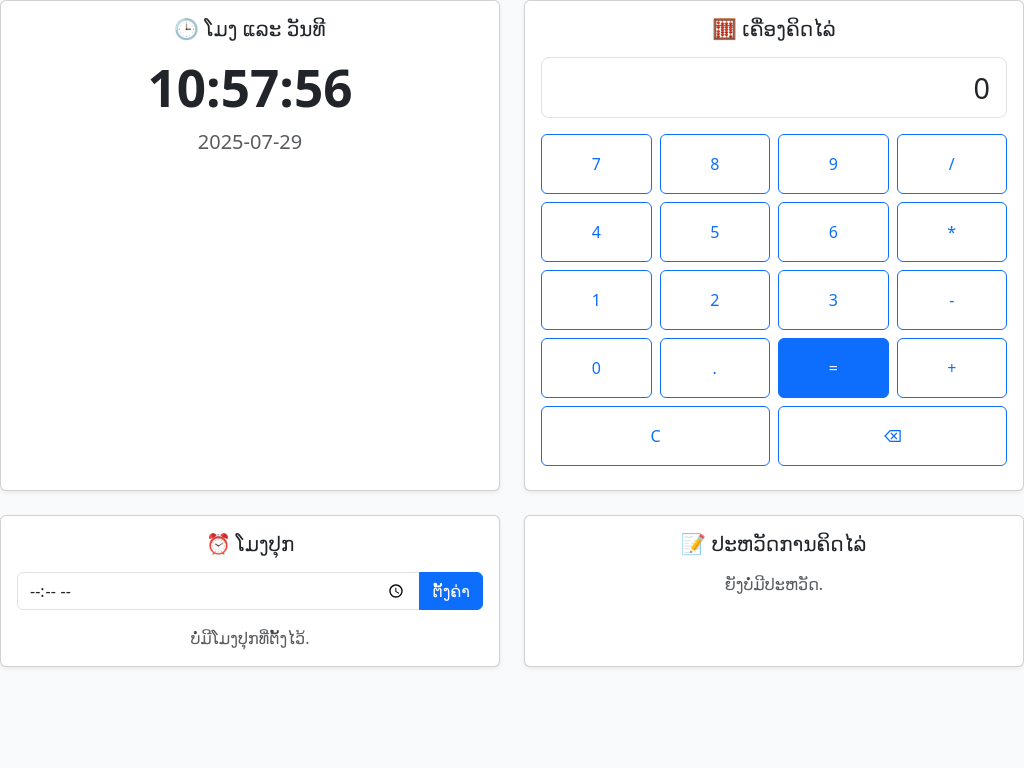
it: CalculatorClockAlarm › performs a calculation
The width and height of the screenshot is (1024, 768).
Click the button with test id "btn-1". click: (596, 300)
box: 541,270 -> 652,330
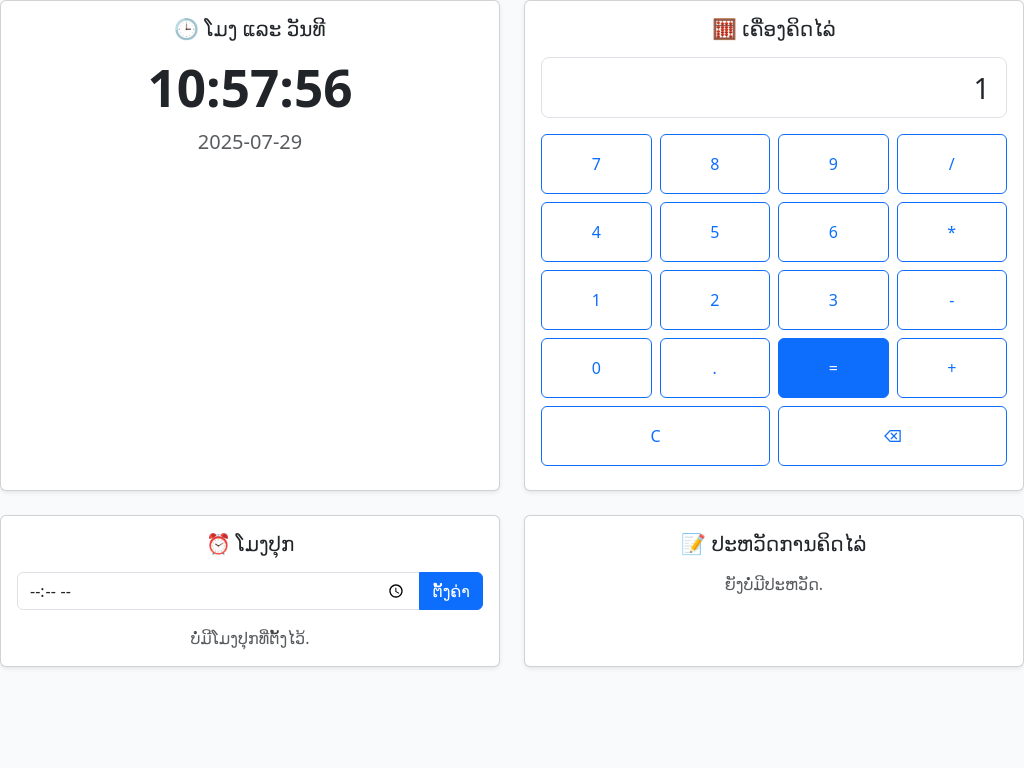
Click the button with test id "btn-+". click: (952, 368)
box: 896,338 -> 1007,398
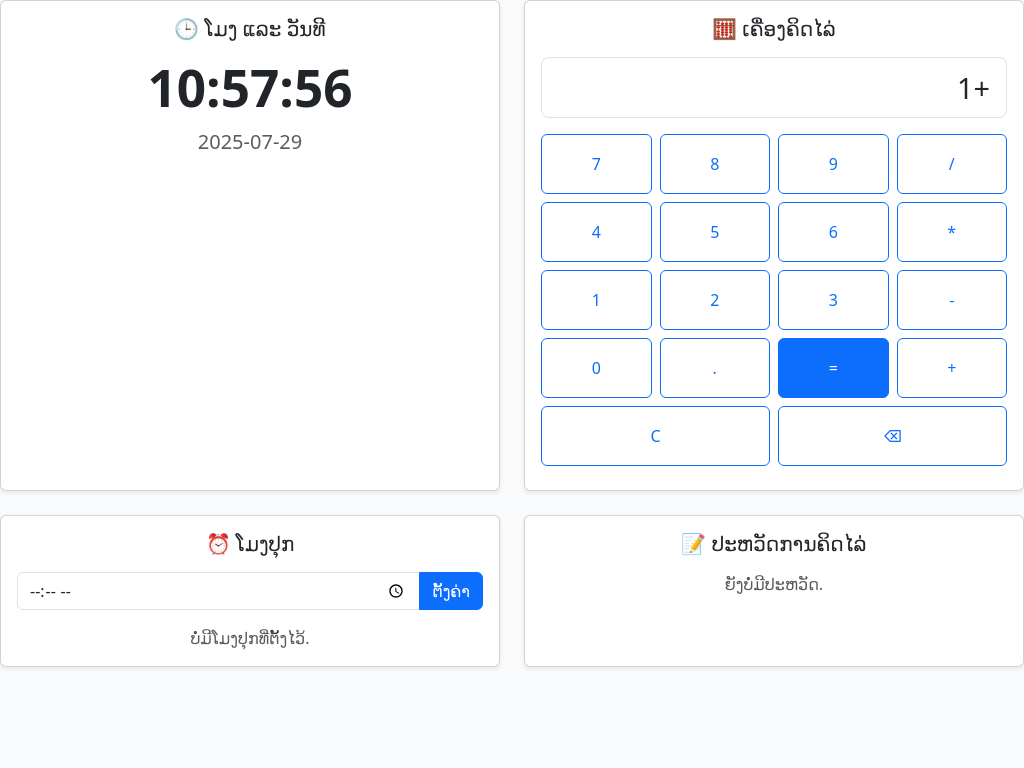
Click the button with test id "btn-2". click: (715, 300)
box: 660,270 -> 770,330
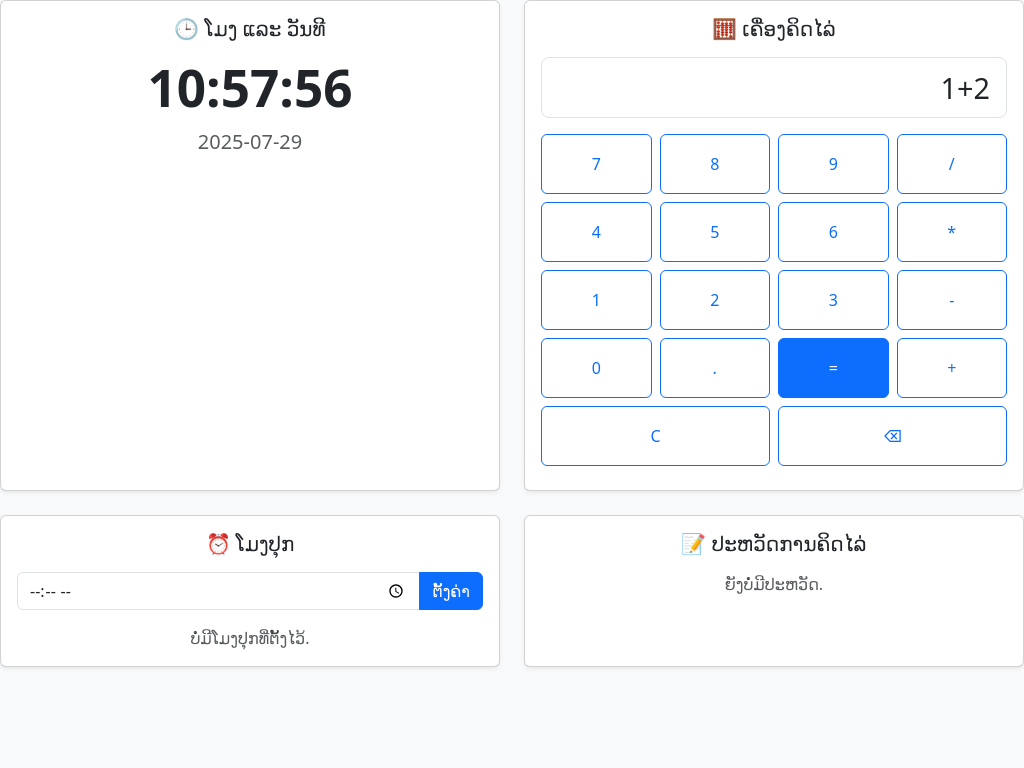
Click the button with test id "btn-=". click: (833, 368)
box: 778,338 -> 888,398
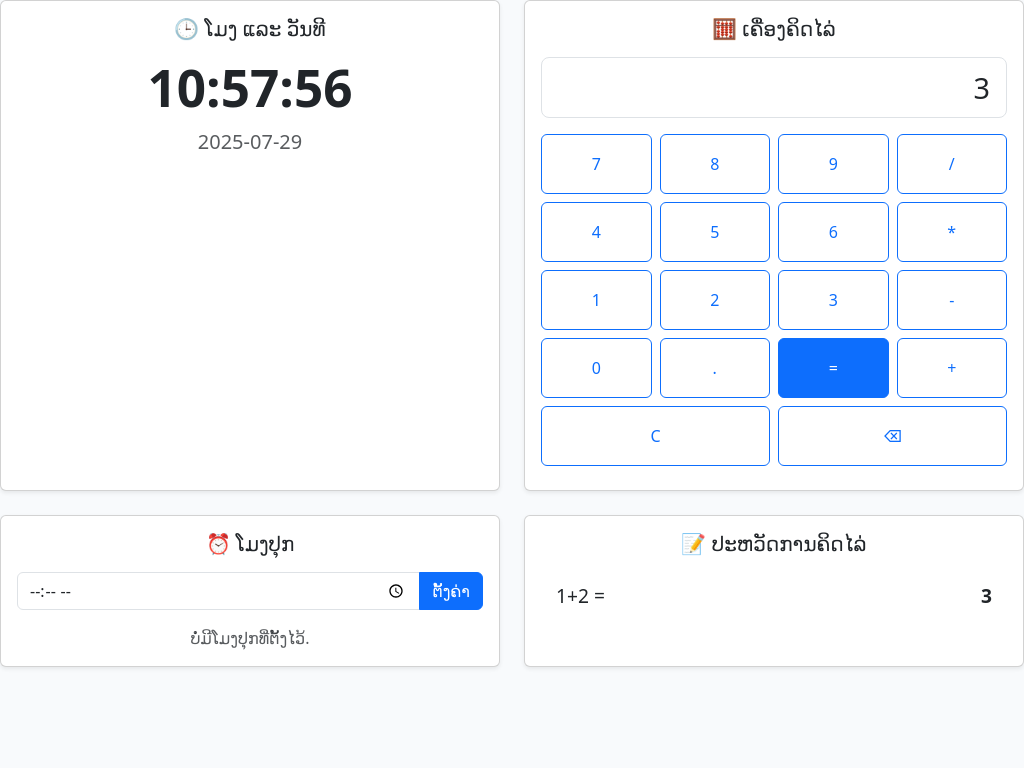
expect the text with test id "calc-display" reads "3": met, box 974,68 -> 990,107
